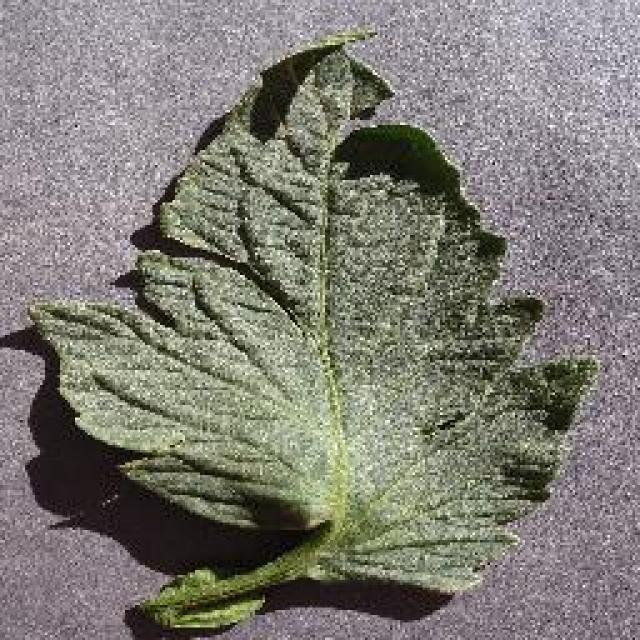Tomato_Healthy: (44, 37, 599, 603)
